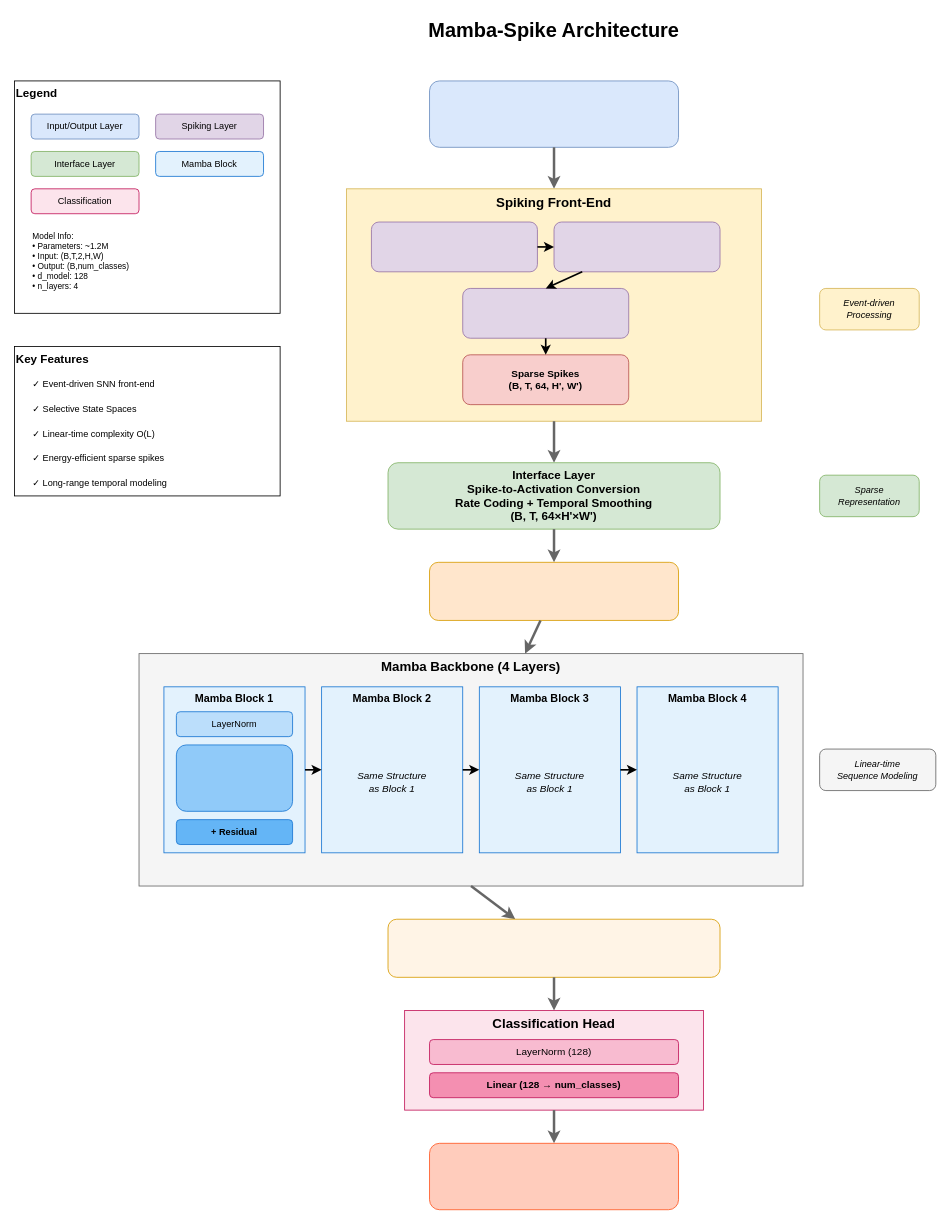
The diagram is 950 pixels wide and 1224 high, and some of its shapes have lost their labels. Each missing label, with the centre of its shape:
"Conv2d (32→32, 3x3) + MaxPool2d (2x2) + LIF Neuron (β=0.9)" belongs at pixel 636 246.
"Conv2d (32→64, 3x3) + LIF Neuron (β=0.9)" belongs at pixel 545 313.
"Conv2d (C→32, 3x3) + MaxPool2d (2x2) + LIF Neuron (β=0.9)" belongs at pixel 454 246.
"Event-based Input (B, T, C, H, W) DVS Camera Events" belongs at pixel 554 113.
"Global Average Pooling over time dimension (B, 128)" belongs at pixel 553 947.
"Linear Projection spike_features → d_model (128) (B, T, 128)" belongs at pixel 554 590.
"Output Logits Class Predictions (B, num_classes)" belongs at pixel 554 1176.
"Selective SSM • Conv1d (kernel=4) • State Space • Gated MLP" belongs at pixel 234 777.
